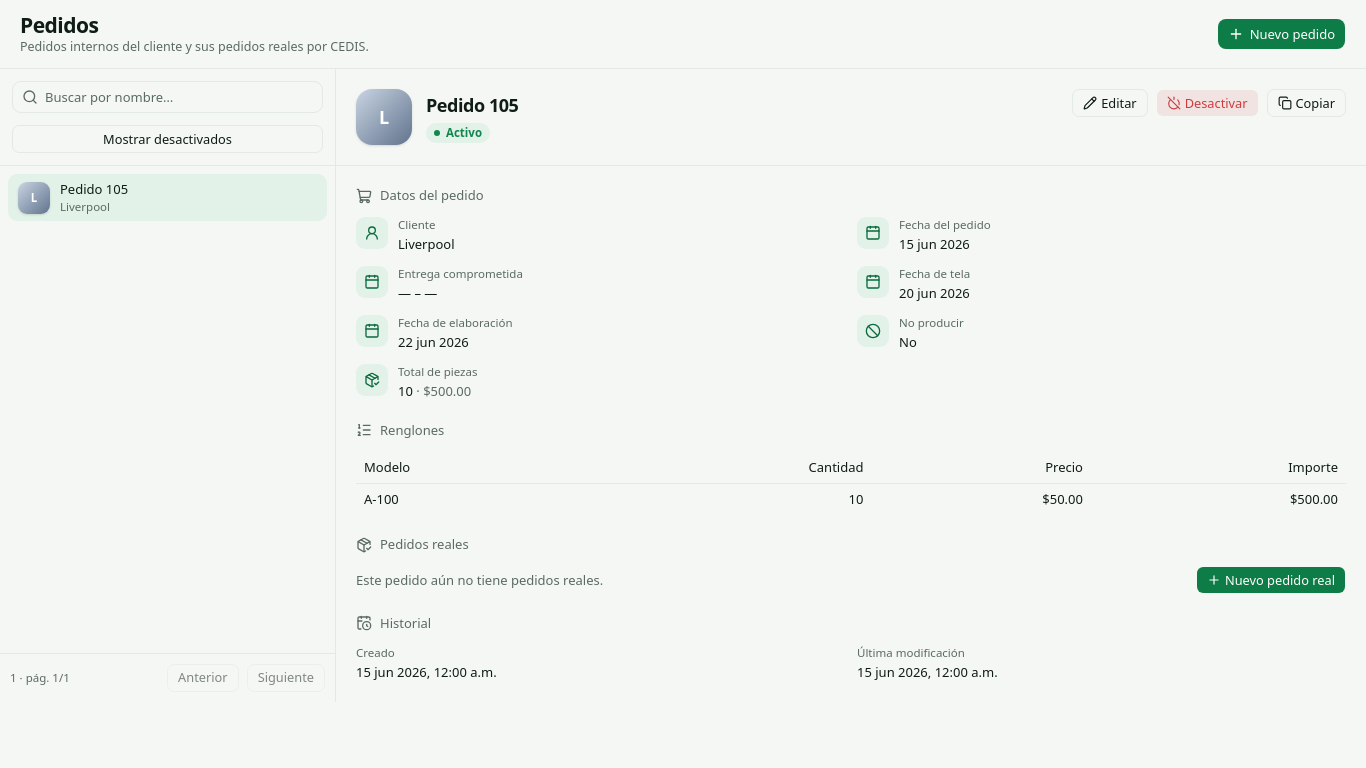
Test: <PedidosPagina> › abre el diálogo de copiar con selección múltiple de renglones
Step 1. Click the button with test id "copiar-pedido" → (1306, 103), box [1266,89,1346,117]
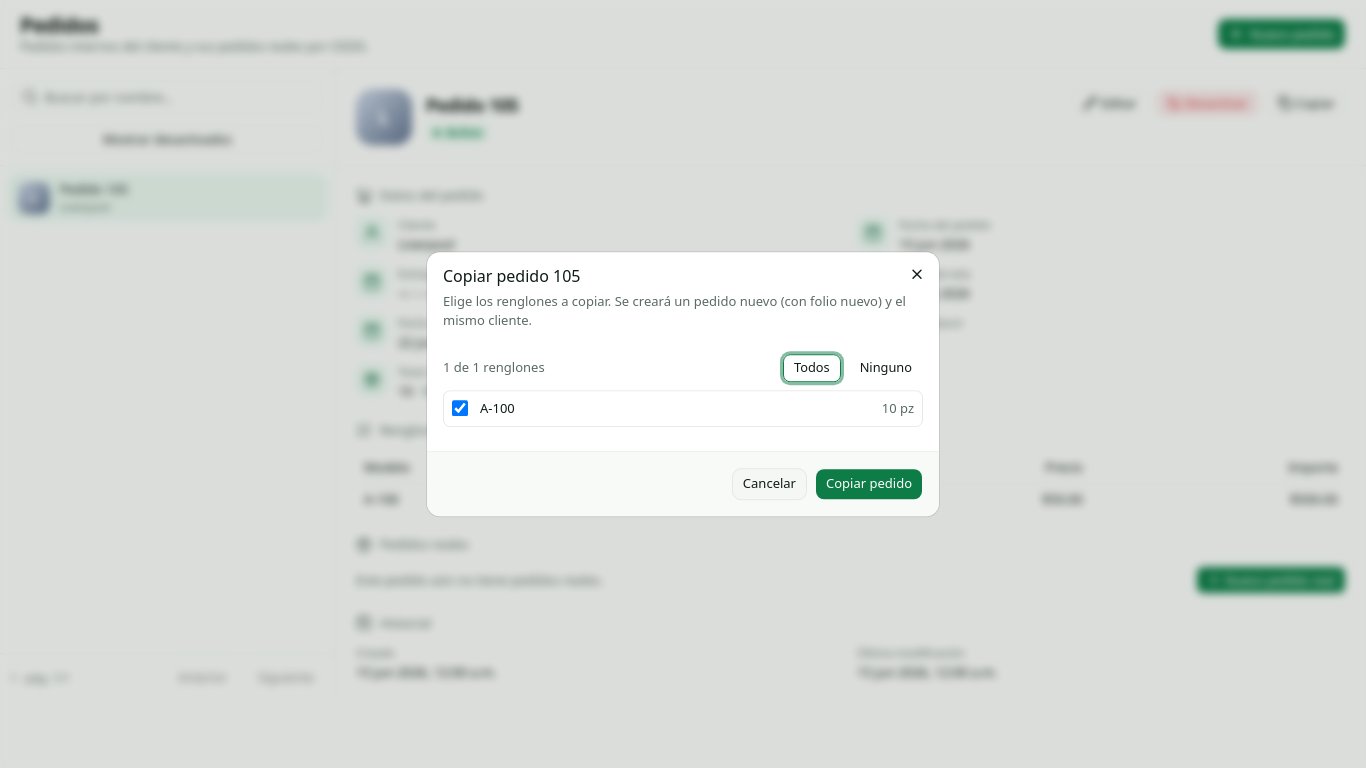
Now the heading "Copiar pedido 105" is shown, box [443,265,580,287]
Now the checkbox with test id "copiar-renglon-check" is checked, box [452,400,468,416]
